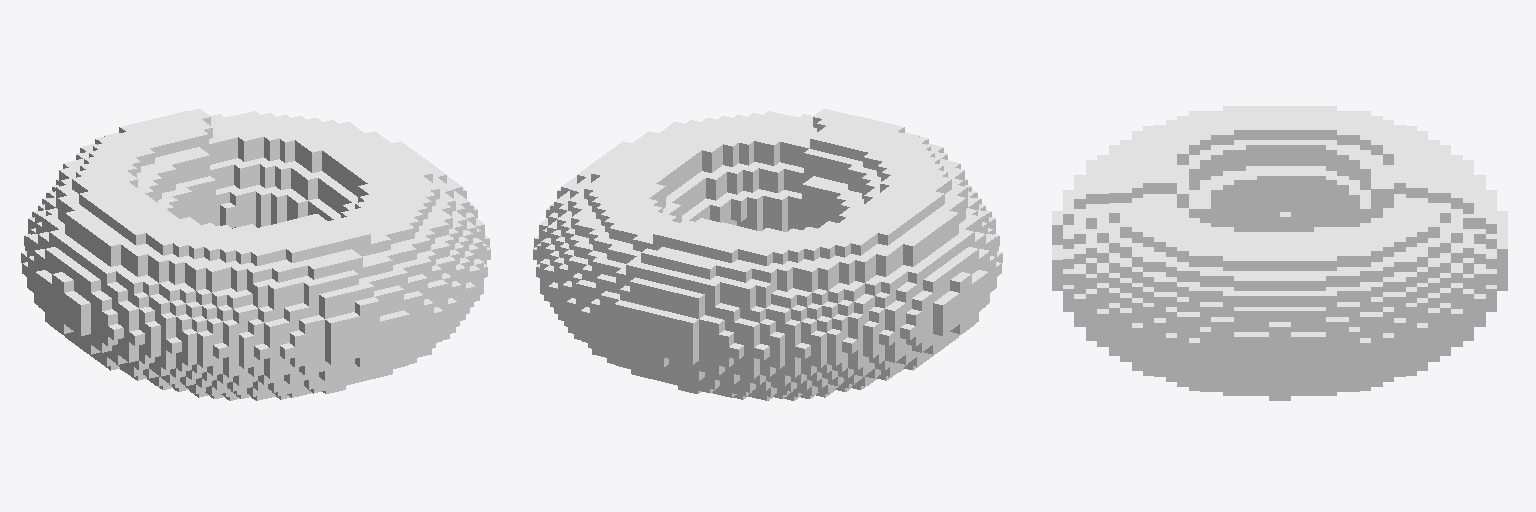
The model's file is item.obj.
3 renders of one model, left to right at view 1: azimuth 30°, elevation 25°; view 2: azimuth 150°, elevation 25°; view 3: azimuth 270°, elevation 25°, orthographic.
Visible parts, largest first — view 1: ObjObject; view 2: ObjObject; view 3: ObjObject.
Boxes of the visible parts, box(x1,y1,x2,y2) form: ObjObject: box(21, 109, 490, 400); ObjObject: box(533, 109, 1002, 400); ObjObject: box(1052, 106, 1507, 400).
Bounding box in the file's own units: 2 × 0.75 × 2.